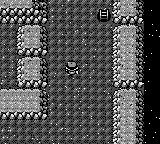captura: (1, 0, 160, 144)
main: (65, 61, 79, 75), (98, 9, 110, 21)
no-caminable: (144, 0, 159, 143), (113, 27, 144, 88), (1, 89, 48, 119), (0, 0, 48, 24), (17, 26, 48, 56), (18, 58, 48, 88), (112, 0, 144, 24), (136, 89, 144, 143), (113, 90, 120, 143), (1, 86, 40, 92), (118, 86, 138, 94), (118, 22, 138, 30), (23, 21, 41, 29), (23, 54, 40, 61)
puerta: (98, 9, 111, 21)
